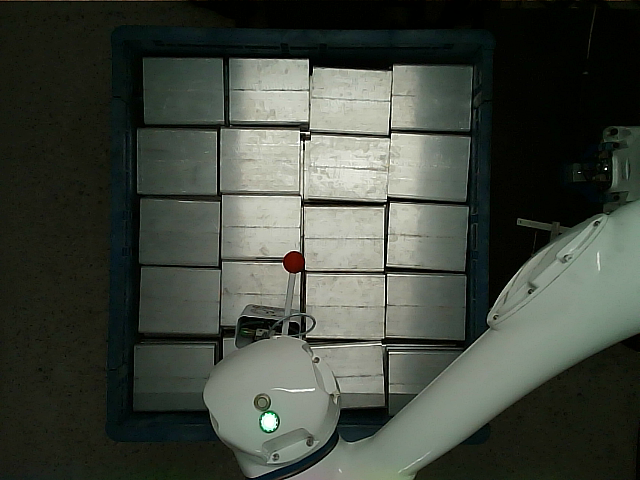green_light: (259, 411, 279, 433)
